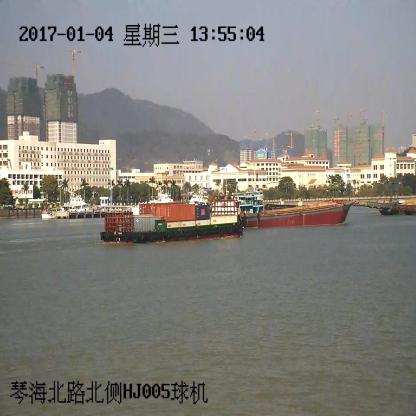Bulk Carrier: (242, 198, 355, 228)
